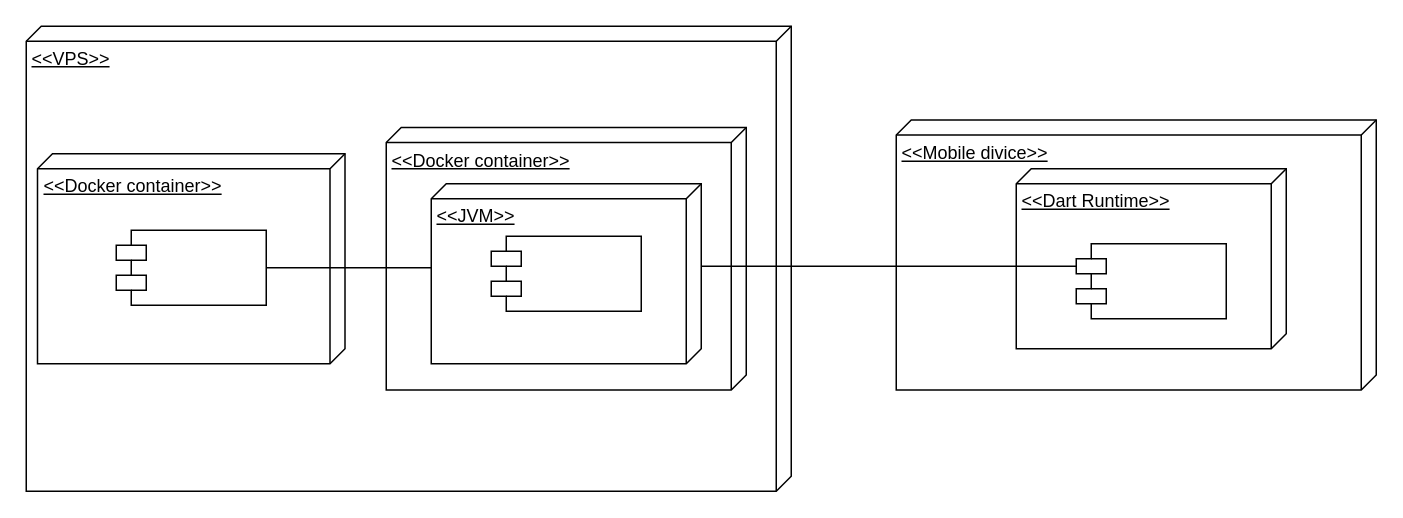
Image size: 1403x518. Some labels were removed from this diagram. The shapes that lost their labels are listed below. From the top down, each one's centre as x and y in pixels, then its label:
pixel 190 267: PostgreSQL
pixel 565 273: Spring Boot
pixel 1150 280: Flutter Framework
